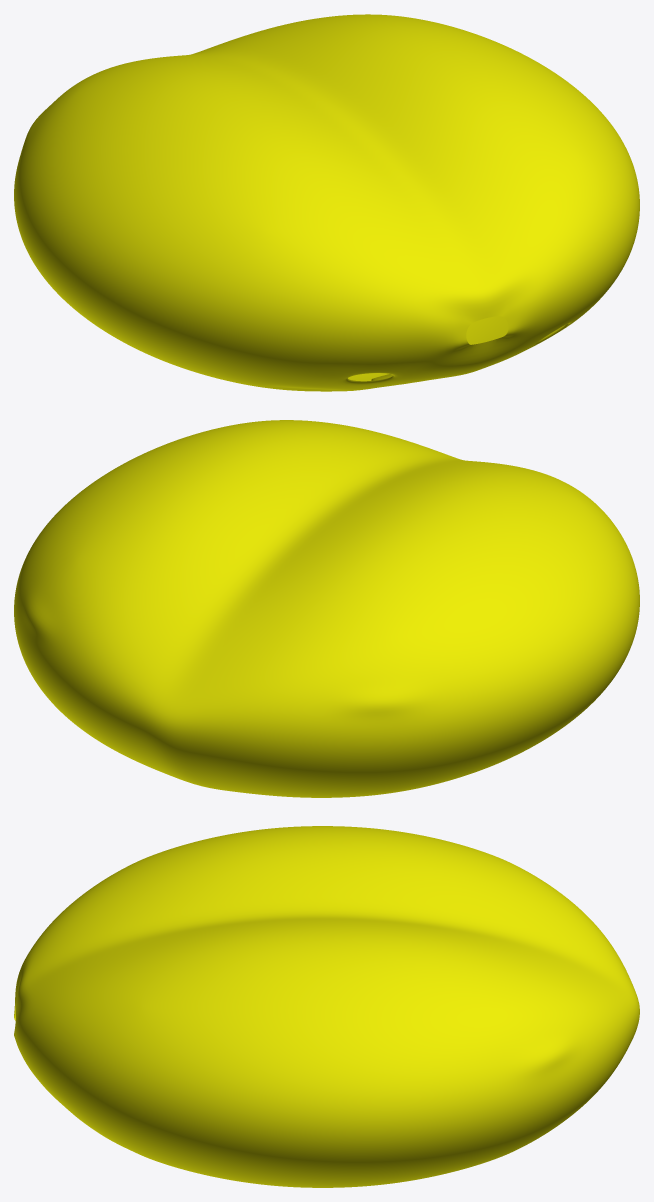
Rendered from zone2-rhino-yellow.gltf.
3 views of the same model, one above another, from view 1: azimuth 30°, elevation 25°; view 2: azimuth 150°, elevation 25°; view 3: azimuth 270°, elevation 25° (orthographic). The views are drawn at different scales.
Parts seen in each view (by area): view 1: TeteBas; view 2: TeteBas; view 3: TeteBas.
Boxes of the visible parts, bbox=[...] form: TeteBas: bbox=[14, 14, 639, 391]; TeteBas: bbox=[14, 420, 639, 797]; TeteBas: bbox=[14, 826, 639, 1187].
Size of the model in its own units: 3.36 by 1.53 by 3.52.
